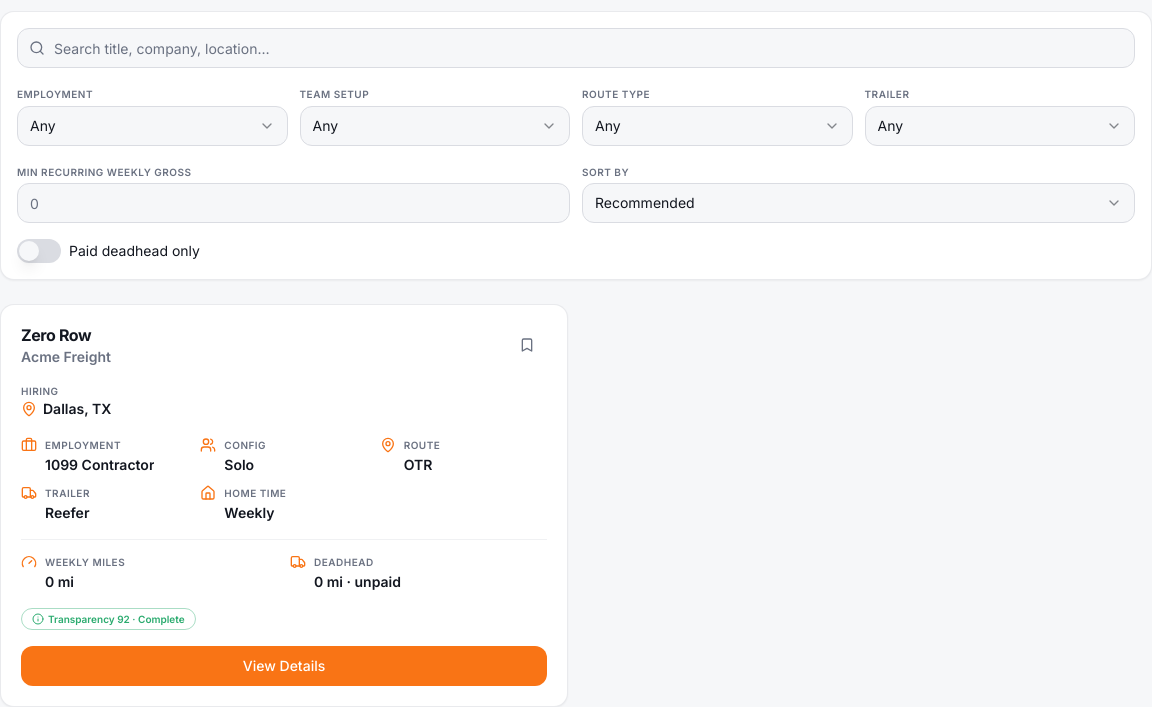
Phase 1L-F2C · Zero and false preservation › 8. CPM row with explicit zero miles, deadhead_paid=false, and false lifestyle booleans preserves "0 mi", "Unpaid", and "No" on card and detail (uses Phase 1O-B
(page scrolled)
Expected: the text "0 mi" is shown, x1=45 y1=573 x2=74 y2=590
Expected: the text "0 mi · unpaid" is shown, x1=314 y1=572 x2=401 y2=592
Click the button "View Details" at (284, 666), box x1=21 y1=646 x2=547 y2=686
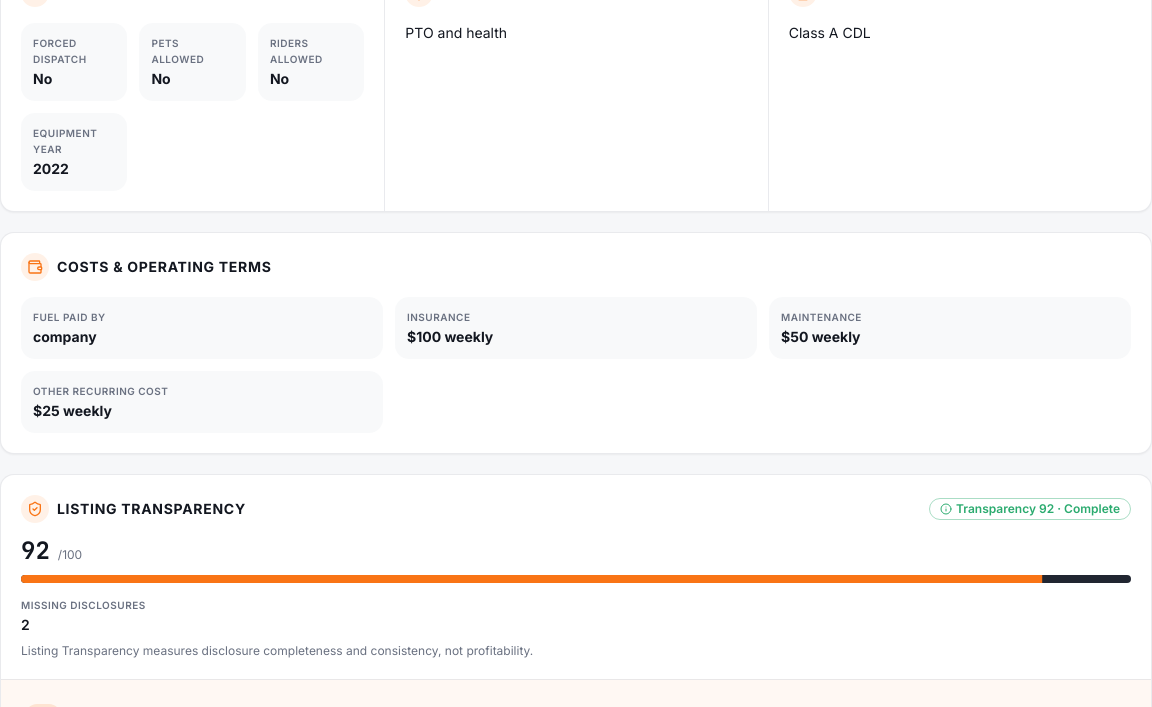
Now the text "Forced dispatch" is shown once, box x1=33 y1=37 x2=87 y2=65
Now the text "No" below "Forced dispatch" is shown, box x1=33 y1=70 x2=52 y2=87
Now the text "Pets allowed" is shown once, box x1=151 y1=37 x2=204 y2=65
